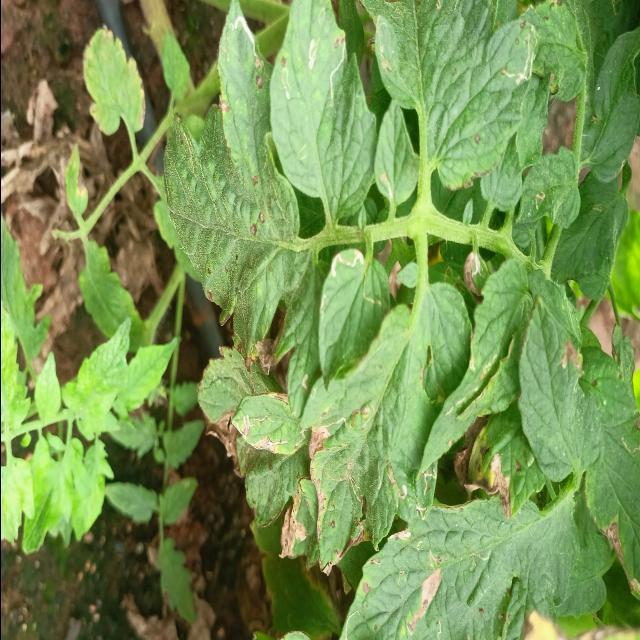Tomato mosaic virus leaf: (198, 158, 276, 374), (463, 419, 540, 522), (312, 482, 348, 582), (242, 453, 282, 528), (276, 488, 314, 563)
